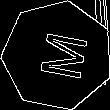M_W: (28, 28, 87, 83)
